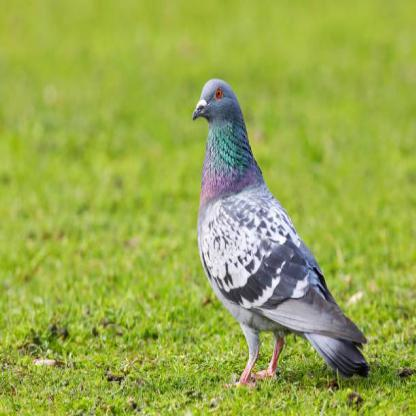Rock Pigeon: (191, 76, 372, 384)
